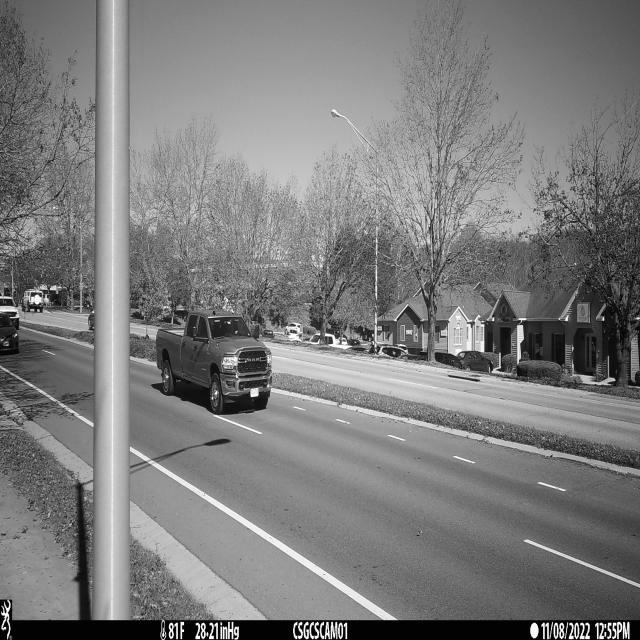Pickup: (157, 310, 272, 415)
